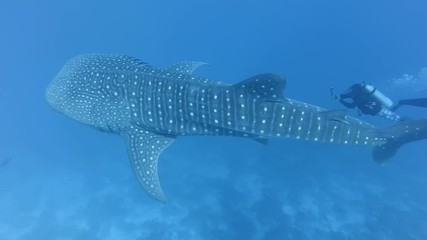Rhincodon_typusw: (27, 53, 397, 201)
